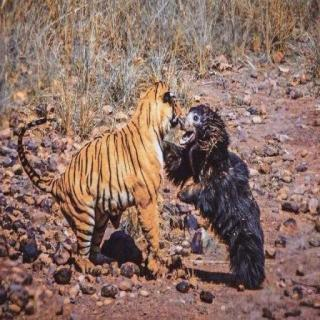Tiger: (19, 84, 182, 286)
